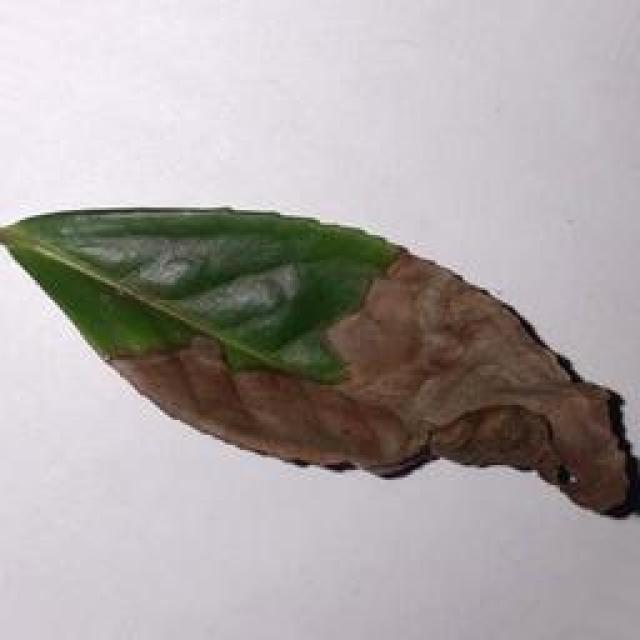Brown Blight: (0, 189, 640, 529)
